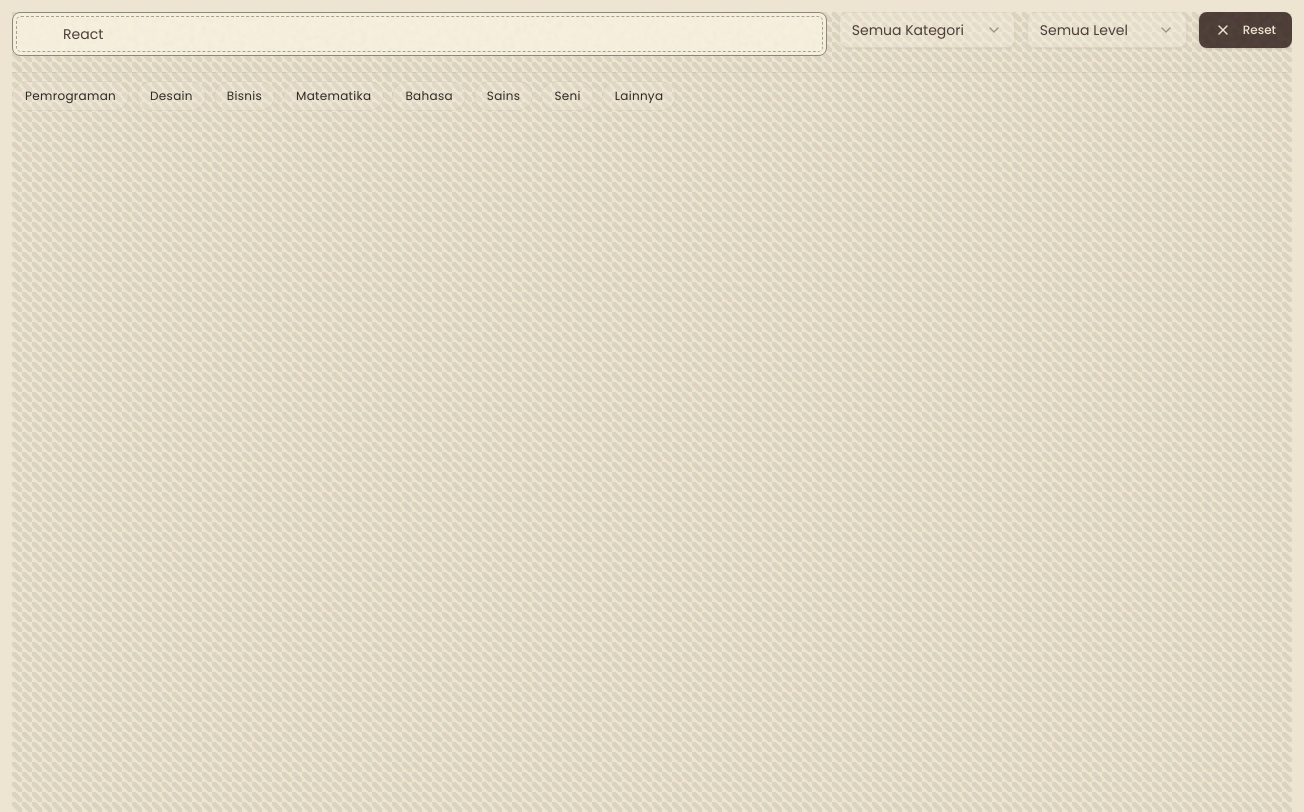
CourseFilters — tombol Reset › Reset juga mengosongkan search input
Click the button with aria-label "Hapus semua filter": x=1245, y=30 [1199,12,1292,48]
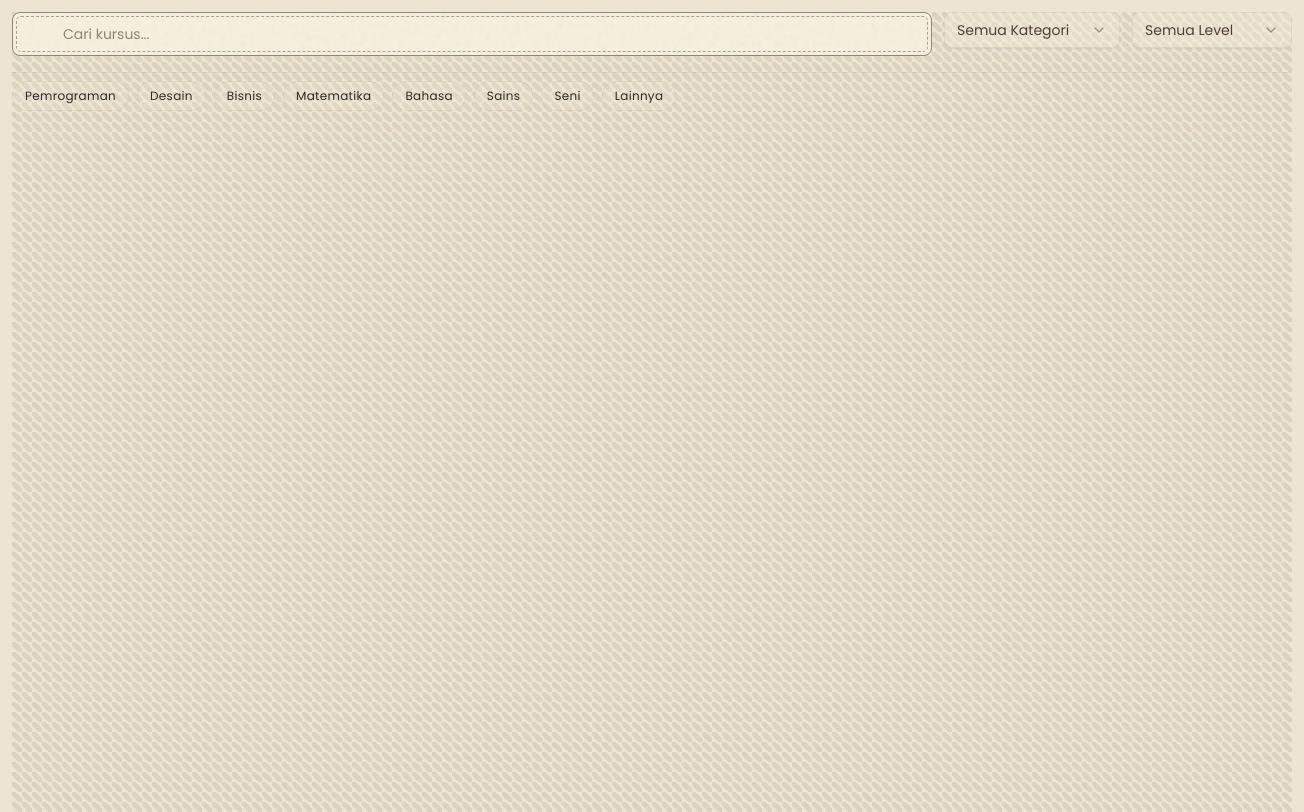
Check: the search field is empty, box [49,13,931,55]
